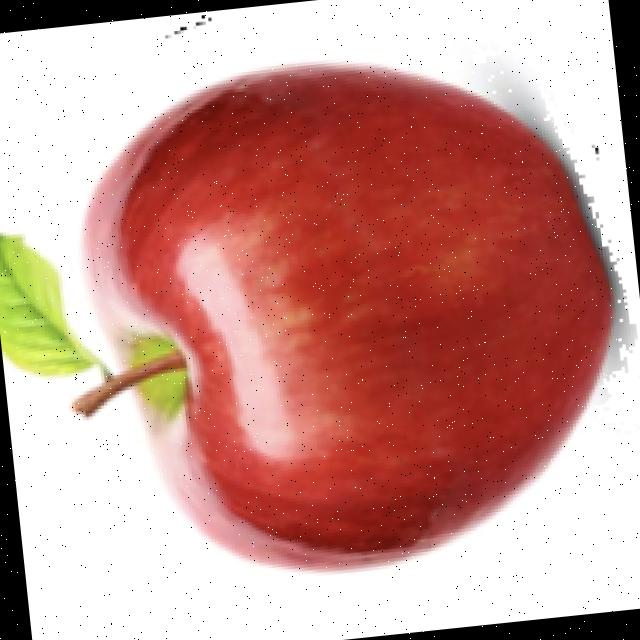apple: (65, 42, 638, 578)
